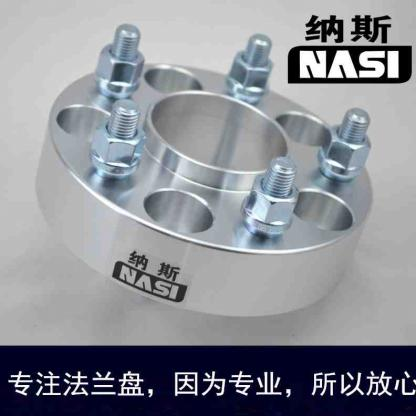FOD: (32, 59, 380, 320)
